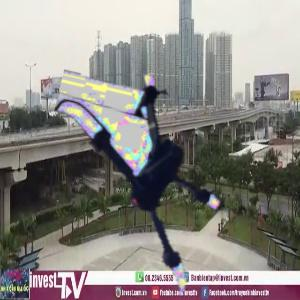drone: (41, 77, 257, 293)
